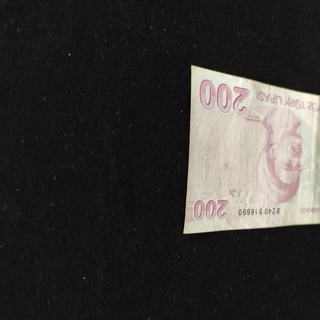200TLBack: (182, 64, 320, 234)
